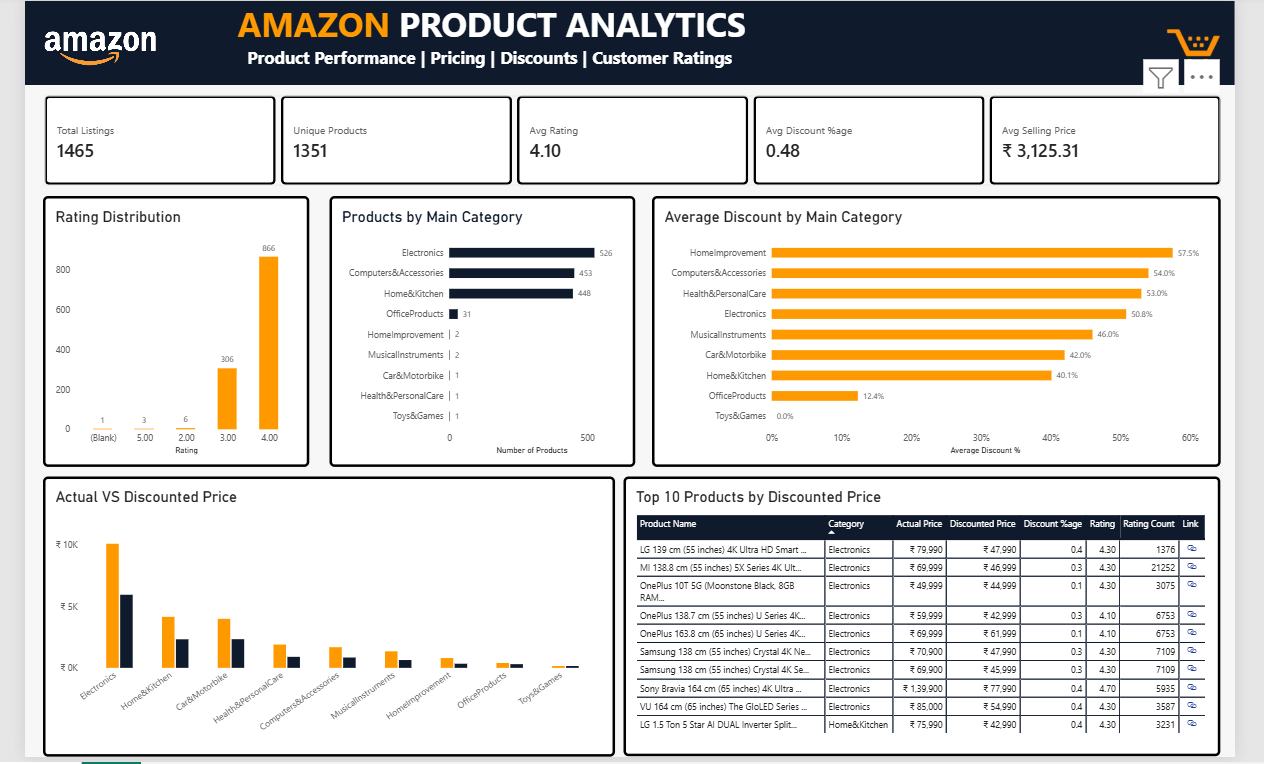

What the dashboard file says about the page in this screenshot:
{"tool":"powerbi","page":{"name":"Page 1","canvas":[1920,1200],"ordinal":0},"visuals":[{"type":"textbox","box":[0,0,1920,133.3],"z":0},{"type":"clusteredBarChart","title":"Products by Main Category","fields":{"Category":["amazon.Main Category"],"Y":["CountNonNull(amazon.product_id)"]},"box":[482.5,310,485,430],"z":1000},{"type":"image","box":[30.3,0,176.7,150],"z":2000},{"type":"image","box":[1809.5,21.4,86.7,110],"z":3000},{"type":"clusteredBarChart","fields":{"Category":["amazon.Main Category"],"Y":["amazon.Average Discount"]},"box":[995,310,902.5,430],"z":4000},{"type":"columnChart","title":"Rating Distribution","fields":{"Category":["amazon.rating (bins)"],"Y":["Count(amazon.rating_count)"]},"box":[28.9,310.5,422.5,430],"z":5000},{"type":"tableEx","title":"Top 10 Products by Discounted Price ","fields":{"Values":["amazon.Main_Product_Name","amazon.Main Category","amazon.actual_price","amazon.discounted_price","amazon.discount_percentage","amazon.rating","amazon.rating_count","amazon.product_link"]},"box":[950,755.7,947.1,444.3],"z":6000},{"type":"clusteredColumnChart","title":"Actual VS Discounted Price","fields":{"Category":["amazon.Main Category"],"Y":["Avg(amazon.actual_price)","Avg(amazon.discounted_price)"]},"box":[28.9,755.3,907.9,444.7],"z":7000},{"type":"cardVisual","fields":{"Data":["amazon.Total Product Listings","amazon.Unique Products","Avg(amazon.rating)","Avg(amazon.discount_percentage)","Avg(amazon.discounted_price)"]},"box":[30,150,1867.5,142.5],"z":8000}]}

Visuals, with their boxes in screenshot pixels (x1, y1, x2, y2):
textbox: bbox=[23, 0, 1228, 80]
"Products by Main Category" clusteredBarChart: bbox=[326, 191, 630, 461]
image: bbox=[42, 0, 153, 91]
image: bbox=[1159, 10, 1213, 79]
clusteredBarChart - amazon.Main Category x amazon.Average Discount: bbox=[647, 191, 1214, 461]
"Rating Distribution" columnChart: bbox=[41, 192, 306, 461]
"Top 10 Products by Discounted Price " tableEx: bbox=[619, 471, 1214, 750]
"Actual VS Discounted Price" clusteredColumnChart: bbox=[41, 471, 611, 750]
cardVisual - amazon.Total Product Listings x amazon.Unique Products: bbox=[42, 91, 1214, 180]
